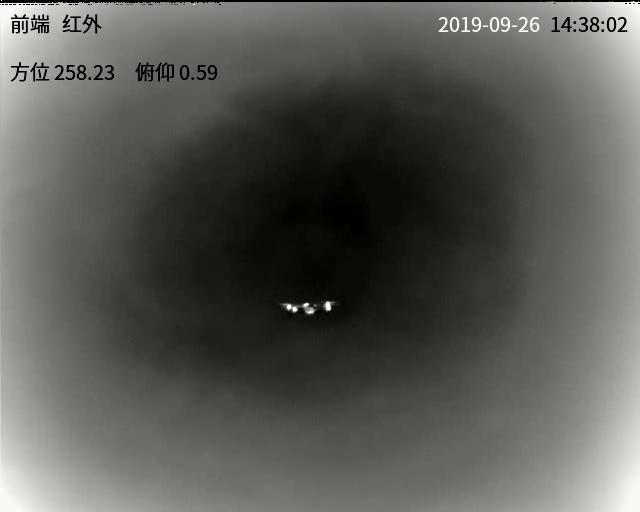DRONE: (282, 299, 335, 317)
